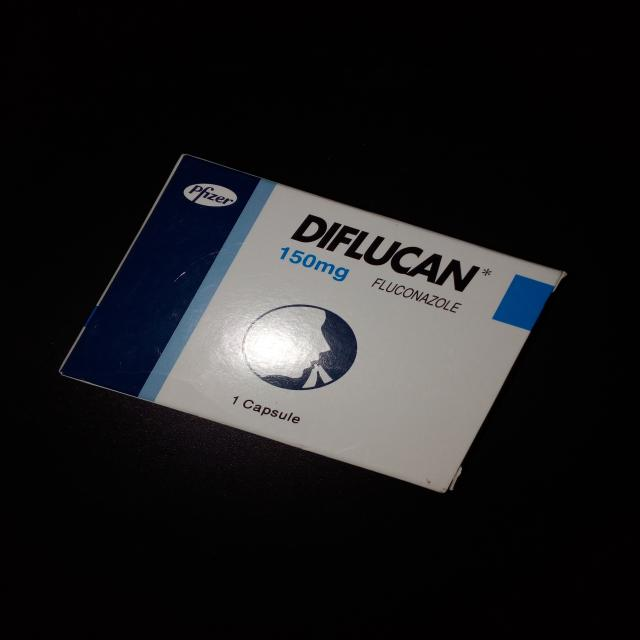Medicine: (61, 155, 566, 491)
